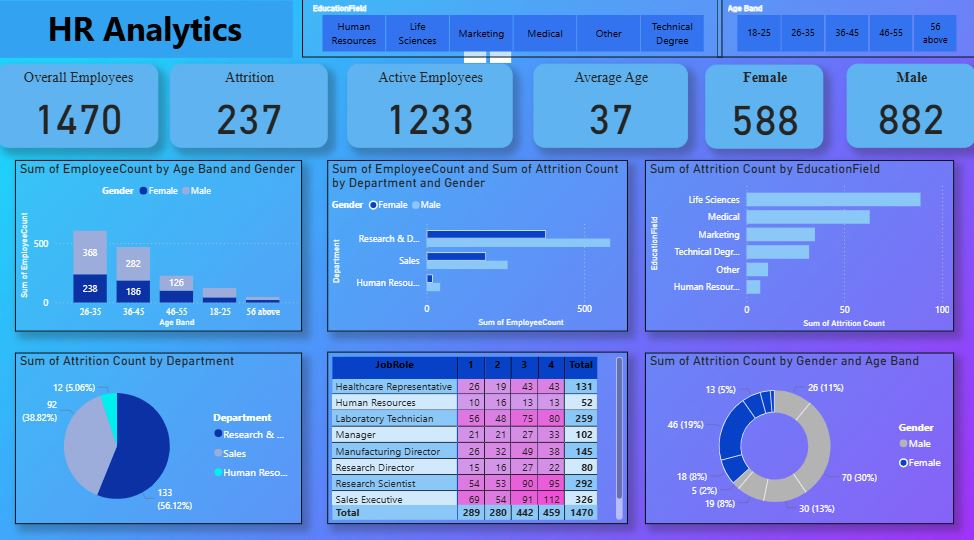

What the dashboard file says about the page in this screenshot:
{"tool":"powerbi","page":{"name":"Page 1","canvas":[1280,720],"ordinal":0},"visuals":[{"type":"card","title":"Overall Employees","fields":{"Values":["Sum(WA_Fn-UseC_-HR-Employee-Attrition.EmployeeCount)"]},"box":[0,85.9,211.6,109.8],"z":0},{"type":"card","title":"Attrition","fields":{"Values":["Sum(WA_Fn-UseC_-HR-Employee-Attrition.Attrition Count)"]},"box":[225.9,85.9,206.8,109.8],"z":1000},{"type":"card","title":"Active Employees","fields":{"Values":["Sum(WA_Fn-UseC_-HR-Employee-Attrition.Active employees)"]},"box":[458.1,85.9,216.3,109.8],"z":2000},{"type":"card","title":"Average Age ","fields":{"Values":["Avg(WA_Fn-UseC_-HR-Employee-Attrition.Age)"]},"box":[701.5,85.9,202,109.8],"z":3000},{"type":"pieChart","fields":{"Y":["Sum(WA_Fn-UseC_-HR-Employee-Attrition.Attrition Count)"],"Category":["WA_Fn-UseC_-HR-Employee-Attrition.Department"]},"box":[23.9,464.5,375.4,224.3],"z":4000},{"type":"columnChart","fields":{"Y":["Sum(WA_Fn-UseC_-HR-Employee-Attrition.EmployeeCount)"],"Series":["WA_Fn-UseC_-HR-Employee-Attrition.Gender"],"Category":["WA_Fn-UseC_-HR-Employee-Attrition.Age Band"]},"box":[23.9,211.6,375.4,224.3],"z":5000},{"type":"clusteredBarChart","fields":{"Category":["WA_Fn-UseC_-HR-Employee-Attrition.Department"],"Y":["Sum(WA_Fn-UseC_-HR-Employee-Attrition.EmployeeCount)"],"Series":["WA_Fn-UseC_-HR-Employee-Attrition.Gender"]},"box":[432.6,211.6,392.9,224.3],"z":6000},{"type":"card","title":"Female","fields":{"Values":["CountNonNull(WA_Fn-UseC_-HR-Employee-Attrition.Gender)"]},"box":[927.3,87.5,154.3,109.8],"z":7000},{"type":"card","title":"Male","fields":{"Values":["Sum(WA_Fn-UseC_-HR-Employee-Attrition.EmployeeCount)"]},"box":[1111.8,85.9,168.6,109.8],"z":8000},{"type":"pivotTable","fields":{"Rows":["WA_Fn-UseC_-HR-Employee-Attrition.JobRole"],"Values":["Sum(WA_Fn-UseC_-HR-Employee-Attrition.EmployeeCount)"],"Columns":["WA_Fn-UseC_-HR-Employee-Attrition.JobSatisfaction"]},"box":[432.6,462.9,392.9,225.9],"z":9000},{"type":"barChart","fields":{"Category":["WA_Fn-UseC_-HR-Employee-Attrition.EducationField"],"Y":["Sum(WA_Fn-UseC_-HR-Employee-Attrition.Attrition Count)"]},"box":[847.8,211.6,404,224.3],"z":10000},{"type":"donutChart","fields":{"Category":["WA_Fn-UseC_-HR-Employee-Attrition.Gender"],"Y":["Sum(WA_Fn-UseC_-HR-Employee-Attrition.Attrition Count)"],"Series":["WA_Fn-UseC_-HR-Employee-Attrition.Age Band"]},"box":[847.8,464.5,404,224.3],"z":11000},{"type":"slicer","fields":{"Values":["WA_Fn-UseC_-HR-Employee-Attrition.Age Band"]},"box":[941.6,0,338.8,77.9],"z":12000},{"type":"slicer","fields":{"Values":["WA_Fn-UseC_-HR-Employee-Attrition.EducationField"]},"box":[399.2,0,550.4,77.9],"z":13000},{"type":"textbox","box":[0,3.2,386.5,74.8],"z":14000}]}

Visuals, with their boxes in screenshot pixels (x1, y1, x2, y2), scaled from the page's 1280x720 canvas onto the 974x540 screenshot:
"Overall Employees" card: detection(0, 64, 161, 147)
"Attrition" card: detection(172, 64, 329, 147)
"Active Employees" card: detection(349, 64, 513, 147)
"Average Age " card: detection(534, 64, 688, 147)
pieChart - Sum(WA_Fn-UseC_-HR-Employee-Attrition.Attrition Count) x WA_Fn-UseC_-HR-Employee-Attrition.Department: detection(18, 348, 304, 517)
columnChart - Sum(WA_Fn-UseC_-HR-Employee-Attrition.EmployeeCount) x WA_Fn-UseC_-HR-Employee-Attrition.Gender: detection(18, 159, 304, 327)
clusteredBarChart - WA_Fn-UseC_-HR-Employee-Attrition.Department x Sum(WA_Fn-UseC_-HR-Employee-Attrition.EmployeeCount): detection(329, 159, 628, 327)
"Female" card: detection(706, 66, 823, 148)
"Male" card: detection(846, 64, 973, 147)
pivotTable - WA_Fn-UseC_-HR-Employee-Attrition.JobRole x Sum(WA_Fn-UseC_-HR-Employee-Attrition.EmployeeCount): detection(329, 347, 628, 517)
barChart - WA_Fn-UseC_-HR-Employee-Attrition.EducationField x Sum(WA_Fn-UseC_-HR-Employee-Attrition.Attrition Count): detection(645, 159, 953, 327)
donutChart - WA_Fn-UseC_-HR-Employee-Attrition.Gender x Sum(WA_Fn-UseC_-HR-Employee-Attrition.Attrition Count): detection(645, 348, 953, 517)
slicer - WA_Fn-UseC_-HR-Employee-Attrition.Age Band: detection(716, 0, 973, 58)
slicer - WA_Fn-UseC_-HR-Employee-Attrition.EducationField: detection(304, 0, 723, 58)
textbox: detection(0, 2, 294, 58)
